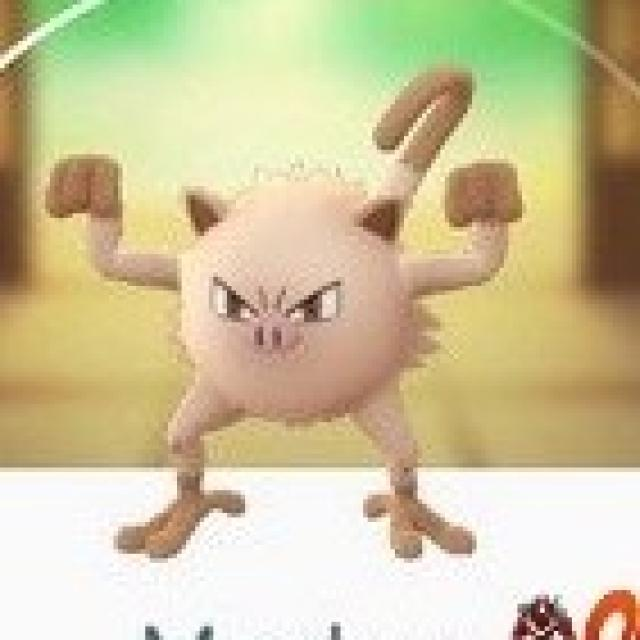Mankey: (136, 144, 464, 477)
